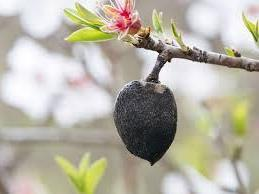mummified_fruits: (114, 74, 177, 165)
